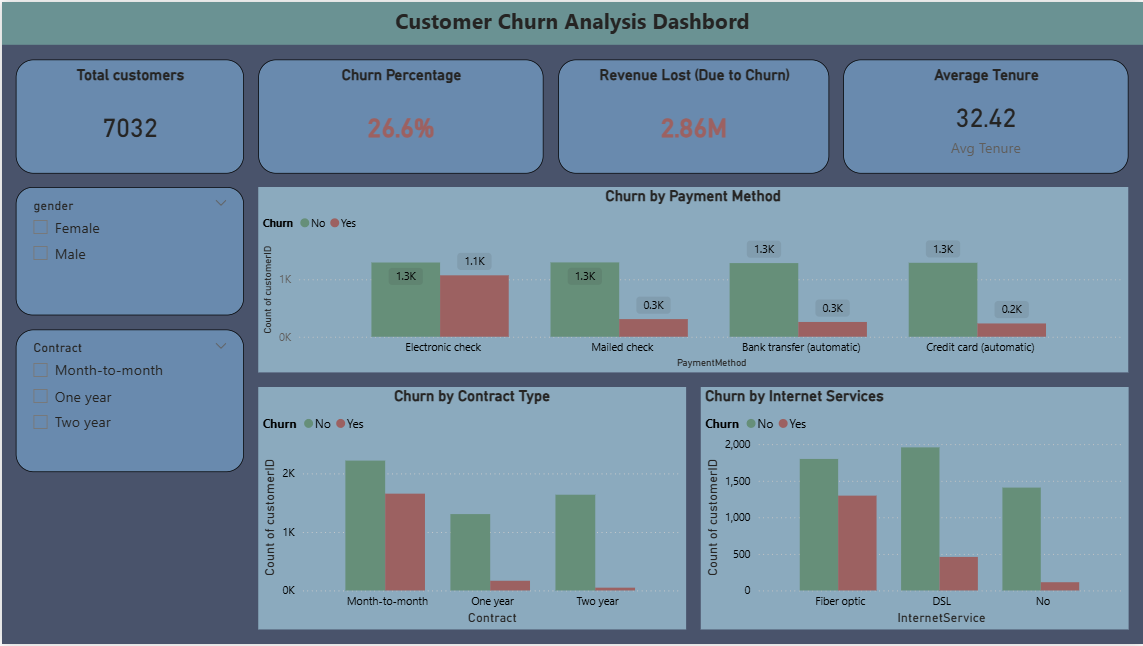

The dashboard page shown, as its layout file describes it:
{"tool":"powerbi","page":{"name":"Page 1","canvas":[1280,720],"ordinal":0},"visuals":[{"type":"card","title":"Total customers","fields":{"Values":["CountNonNull(Telco_Cleaned.customerID)"]},"box":[16,64,256,128],"z":0},{"type":"card","title":"Churn Percentage","fields":{"Values":["Telco_Cleaned.Churn Rate %"]},"box":[288,64,320,128],"z":1000},{"type":"clusteredColumnChart","title":"Churn by Contract Type","fields":{"Category":["Telco_Cleaned.Contract"],"Y":["CountNonNull(Telco_Cleaned.customerID)"],"Series":["Telco_Cleaned.Churn"]},"box":[288,432,480,272],"z":2000},{"type":"clusteredColumnChart","title":"Churn by Internet Services","fields":{"Category":["Telco_Cleaned.InternetService"],"Y":["CountNonNull(Telco_Cleaned.customerID)"],"Series":["Telco_Cleaned.Churn"]},"box":[784,432,480,272],"z":3000},{"type":"clusteredColumnChart","title":"Churn by Payment Method","fields":{"Category":["Telco_Cleaned.PaymentMethod"],"Y":["CountNonNull(Telco_Cleaned.customerID)"],"Series":["Telco_Cleaned.Churn"]},"box":[288,208,976,208],"z":4000},{"type":"slicer","fields":{"Values":["Telco_Cleaned.gender"]},"box":[16,208,256,144],"z":5000},{"type":"slicer","fields":{"Values":["Telco_Cleaned.Contract"]},"box":[16,368,256,160],"z":6000},{"type":"textbox","box":[0,0,1280,48],"z":7000},{"type":"card","title":"Revenue Lost (Due to Churn)","fields":{"Values":["Telco_Cleaned.Revenue Lost"]},"box":[624,64,304,128],"z":7001},{"type":"card","title":"Average Tenure","fields":{"Values":["Telco_Cleaned.Avg Tenure"]},"box":[944,64,320,128],"z":7002}]}

Visuals, with their boxes in screenshot pixels (x1, y1, x2, y2), scaled from the page's 1280x720 canvas onto the 1143x646 screenshot:
"Total customers" card: locate(14, 57, 243, 172)
"Churn Percentage" card: locate(257, 57, 543, 172)
"Churn by Contract Type" clusteredColumnChart: locate(257, 388, 686, 632)
"Churn by Internet Services" clusteredColumnChart: locate(700, 388, 1129, 632)
"Churn by Payment Method" clusteredColumnChart: locate(257, 187, 1129, 373)
slicer - Telco_Cleaned.gender: locate(14, 187, 243, 316)
slicer - Telco_Cleaned.Contract: locate(14, 330, 243, 474)
textbox: locate(0, 0, 1142, 43)
"Revenue Lost (Due to Churn)" card: locate(557, 57, 829, 172)
"Average Tenure" card: locate(843, 57, 1129, 172)
